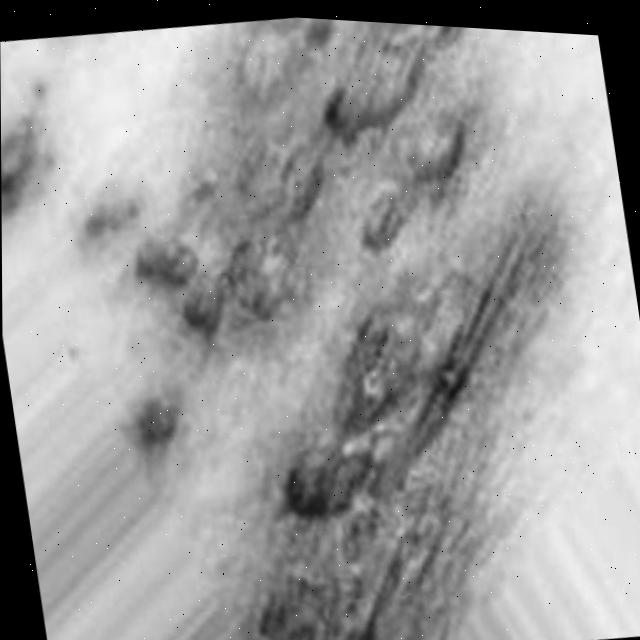Shingles: (0, 0, 569, 640)
